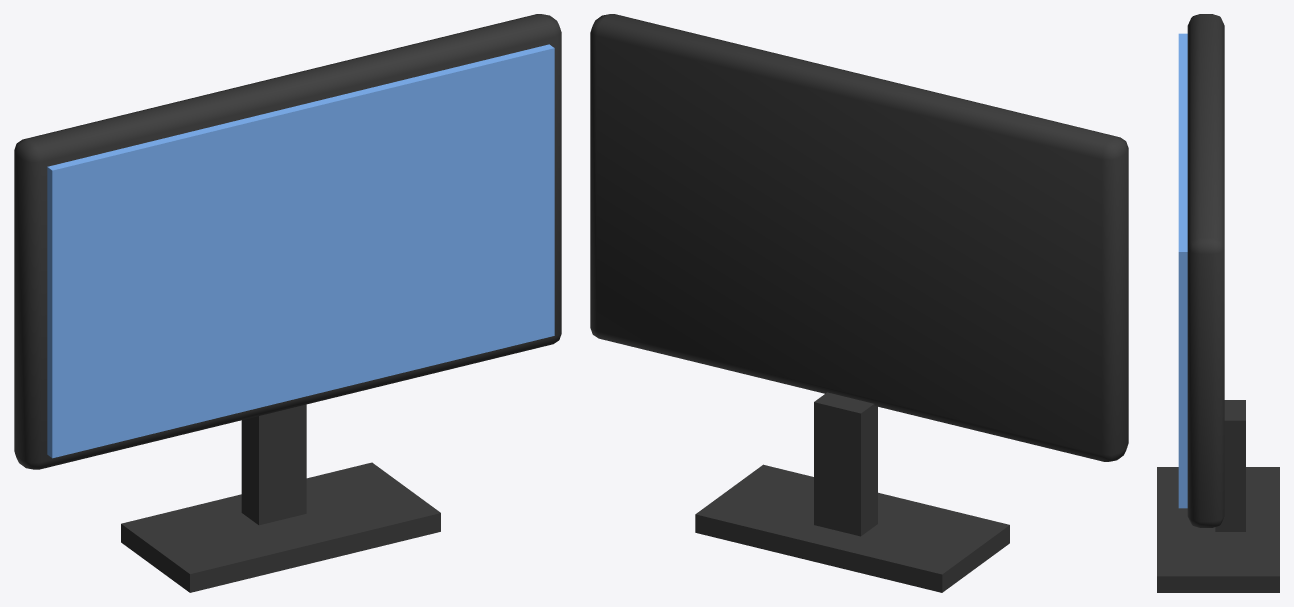
3 views of the same model, side by side, from view 1: azimuth 30°, elevation 25°; view 2: azimuth 150°, elevation 25°; view 3: azimuth 270°, elevation 25° (orthographic). The views are drawn at different scales.
Visible parts, largest first — view 1: tv; view 2: tv; view 3: tv.
Part boxes in pixels (x1,y1,x2,y2): tv: (14,14,561,592); tv: (590,14,1128,592); tv: (1157,14,1279,592).
Bounding box in the file's own units: 0.9 × 0.74 × 0.2.
